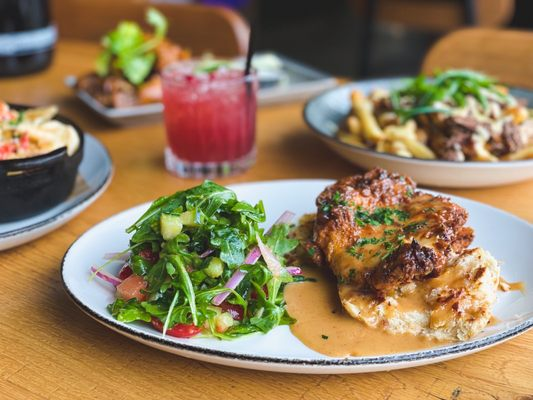sushi: (303, 70, 533, 190), (0, 98, 84, 223), (0, 0, 60, 77)
